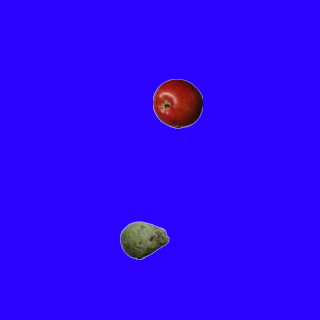Apple Braeburn: (152, 78, 202, 128)
Pear Stone: (119, 215, 169, 265)
